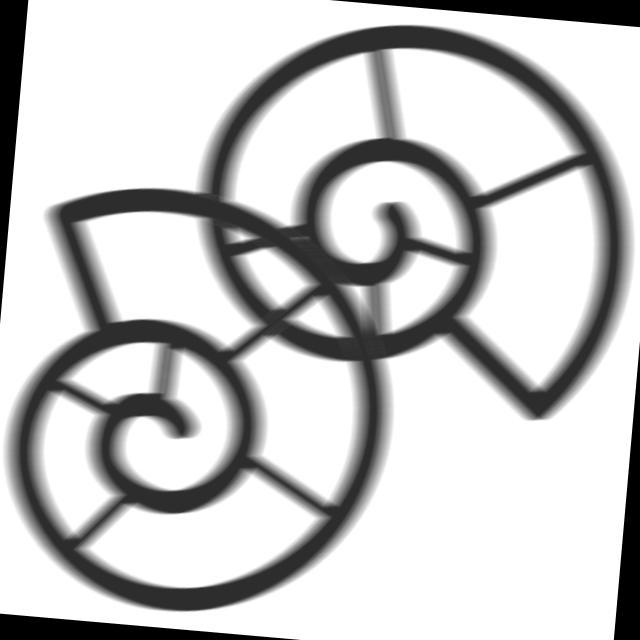fossil: (166, 1, 640, 438), (1, 160, 427, 635)
